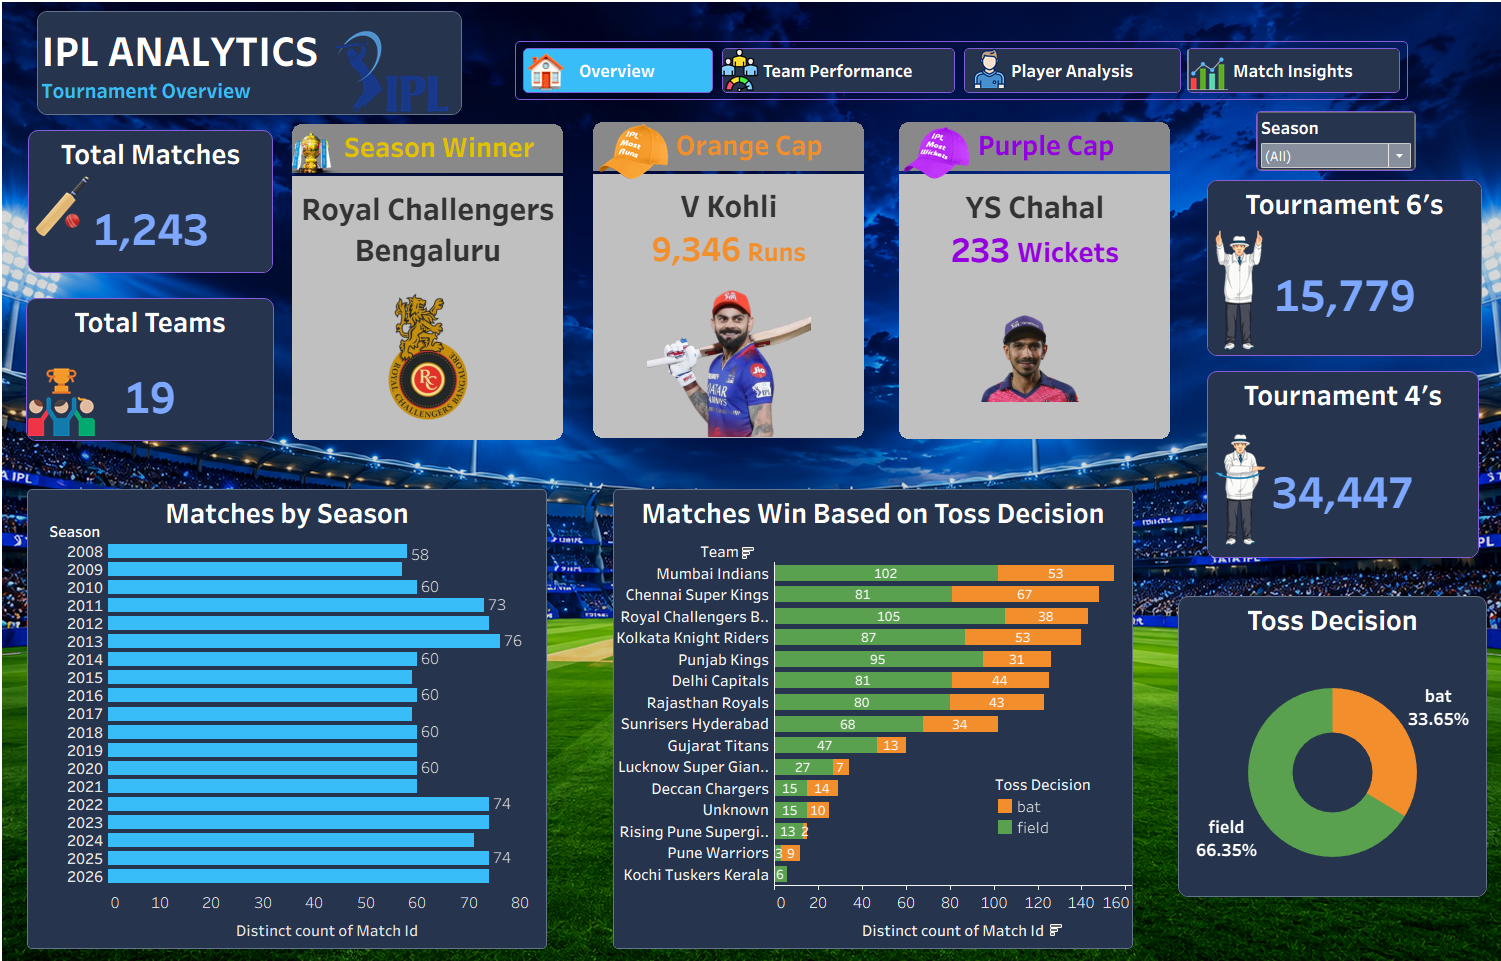

The page's visual inventory and layout, read from the dashboard file:
{"tool":"tableau","page":{"name":"Dashboard 2","canvas":[1500,960],"ordinal":0},"visuals":[{"type":"image","param":"Image/ipl_stadium_background_1500x960.png","box":[0,0,1500,960]},{"type":"title","box":[35,9,425,104]},{"type":"image","param":"Image/new.png","box":[331,27,125,83]},{"type":"blank","box":[513,39,893,59]},{"type":"dashboard-object","box":[521,46,190,45]},{"type":"image","param":"Image/team_per-removebg-preview.png","box":[715,46,55,44]},{"type":"dashboard-object","box":[720,46,233,45]},{"type":"dashboard-object","box":[962,46,217,45]},{"type":"image","param":"Image/palyer-removebg-preview.png","box":[967,46,46,40]},{"type":"dashboard-object","box":[1185,46,213,45]},{"type":"image","param":"Image/match_insights-removebg-preview.png","box":[1185,47,41,46]},{"type":"image","param":"Image/overview-removebg-preview.png","box":[522,48,43,45]},{"type":"filter","title":"orange","param":"[federated.11lt0wj1xww80l173m1cm0uaoaj8].[yr:date:ok]","box":[1254,109,160,60]},{"type":"image","param":"Image/orangecap.png","box":[595,113,148,75]},{"type":"image","param":"Image/puplecap.png","box":[900,116,165,71]},{"type":"worksheet","title":"orange","mark":"Automatic","box":[591,120,271,159]},{"type":"worksheet","title":"purple","mark":"Automatic","box":[897,120,271,161]},{"type":"worksheet","title":"winner","mark":"Automatic","box":[290,122,271,157]},{"type":"worksheet","title":"tot mat","mark":"Automatic","box":[26,128,245,143]},{"type":"image","param":"Image/ipl-trophy-png-5-Transparent-Images-Free-228x171.png","box":[275,128,67,69]},{"type":"image","param":"Image/bat-removebg-preview.png","box":[8,164,105,96]},{"type":"worksheet","title":"Tournament 6's","mark":"Automatic","box":[1205,178,275,176]},{"type":"image","param":"Image/six.png","box":[1173,225,140,126]},{"type":"worksheet","title":"orange cap img","mark":"Shape","box":[591,269,271,167]},{"type":"worksheet","title":"pur cap img","mark":"Shape","box":[897,270,271,167]},{"type":"worksheet","title":"winner img","mark":"Shape","box":[290,271,271,167]},{"type":"worksheet","title":"tot team","mark":"Automatic","box":[24,296,248,143]},{"type":"image","param":"Image/team_-removebg-preview.png","box":[25,366,93,68]},{"type":"worksheet","title":"4's","mark":"Automatic","box":[1205,369,272,187]},{"type":"image","param":"Image/four.png","box":[1180,429,117,127]},{"type":"worksheet","title":"mat by seas","mark":"Bar","rows":["date"],"cols":["match_id"],"box":[25,487,520,460]},{"type":"worksheet","title":"Sheet 12","mark":"Bar","cols":["match_id"],"box":[611,487,520,460]},{"type":"text","box":[44,514,72,30]},{"type":"worksheet","title":"Sheet 14","mark":"Pie","cols":["Calculation_0927468607639557","Calculation_0927468607676423"],"box":[1176,594,309,301]},{"type":"legend","title":"Sheet 12","param":"[federated.11lt0wj1xww80l173m1cm0uaoaj8].[none:toss_decision:nk]","box":[993,772,140,64]}]}

Visuals, with their boxes in screenshot pixels (x1, y1, x2, y2), scaled from the page's 1500x960 canvas onto the 1501x961 screenshot:
image: rect(0, 0, 1500, 960)
title: rect(35, 9, 460, 113)
image: rect(331, 27, 456, 110)
blank: rect(513, 39, 1407, 98)
dashboard-object: rect(521, 46, 711, 91)
image: rect(715, 46, 771, 90)
dashboard-object: rect(720, 46, 954, 91)
dashboard-object: rect(963, 46, 1180, 91)
image: rect(968, 46, 1014, 86)
dashboard-object: rect(1186, 46, 1399, 91)
image: rect(1186, 47, 1227, 93)
image: rect(522, 48, 565, 93)
"orange" filter: rect(1255, 109, 1415, 169)
image: rect(595, 113, 743, 188)
image: rect(901, 116, 1066, 187)
"orange" worksheet: rect(591, 120, 863, 279)
"purple" worksheet: rect(898, 120, 1169, 281)
"winner" worksheet: rect(290, 122, 561, 279)
"tot mat" worksheet: rect(26, 128, 271, 271)
image: rect(275, 128, 342, 197)
image: rect(8, 164, 113, 260)
"Tournament 6's" worksheet: rect(1206, 178, 1481, 354)
image: rect(1174, 225, 1314, 351)
"orange cap img" worksheet (Shape marks): rect(591, 269, 863, 436)
"pur cap img" worksheet (Shape marks): rect(898, 270, 1169, 437)
"winner img" worksheet (Shape marks): rect(290, 271, 561, 438)
"tot team" worksheet: rect(24, 296, 272, 439)
image: rect(25, 366, 118, 434)
"4's" worksheet: rect(1206, 369, 1478, 557)
image: rect(1181, 429, 1298, 557)
"mat by seas" worksheet (Bar marks): rect(25, 488, 545, 948)
"Sheet 12" worksheet (Bar marks): rect(611, 488, 1132, 948)
text: rect(44, 515, 116, 545)
"Sheet 14" worksheet (Pie marks): rect(1177, 595, 1486, 896)
"Sheet 12" legend: rect(994, 773, 1134, 837)
